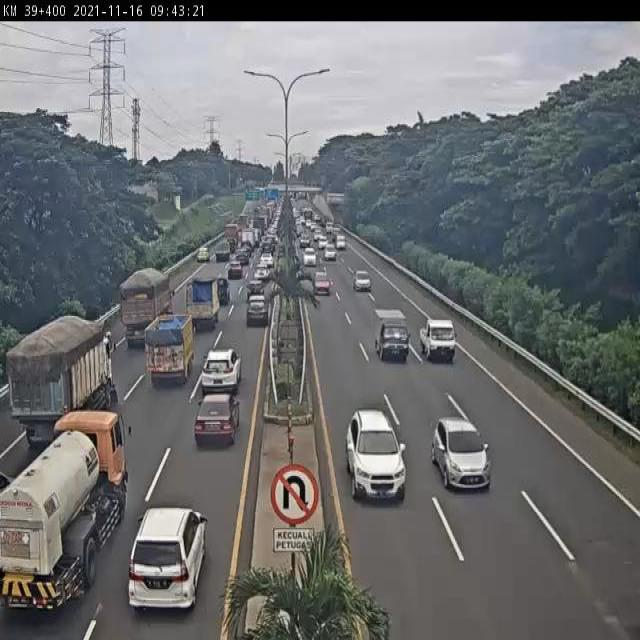car: (133, 492, 203, 621), (349, 412, 402, 503), (433, 418, 492, 494), (194, 387, 240, 452), (203, 337, 244, 395), (425, 316, 462, 361), (378, 310, 410, 358), (247, 296, 267, 333), (349, 265, 372, 295), (212, 276, 231, 308), (313, 274, 334, 302), (247, 278, 262, 306), (228, 257, 243, 283), (253, 269, 265, 292)
small truck: (147, 313, 192, 392), (182, 275, 219, 336)
truck-m-: (0, 400, 125, 609), (9, 312, 115, 452), (120, 267, 174, 349)
